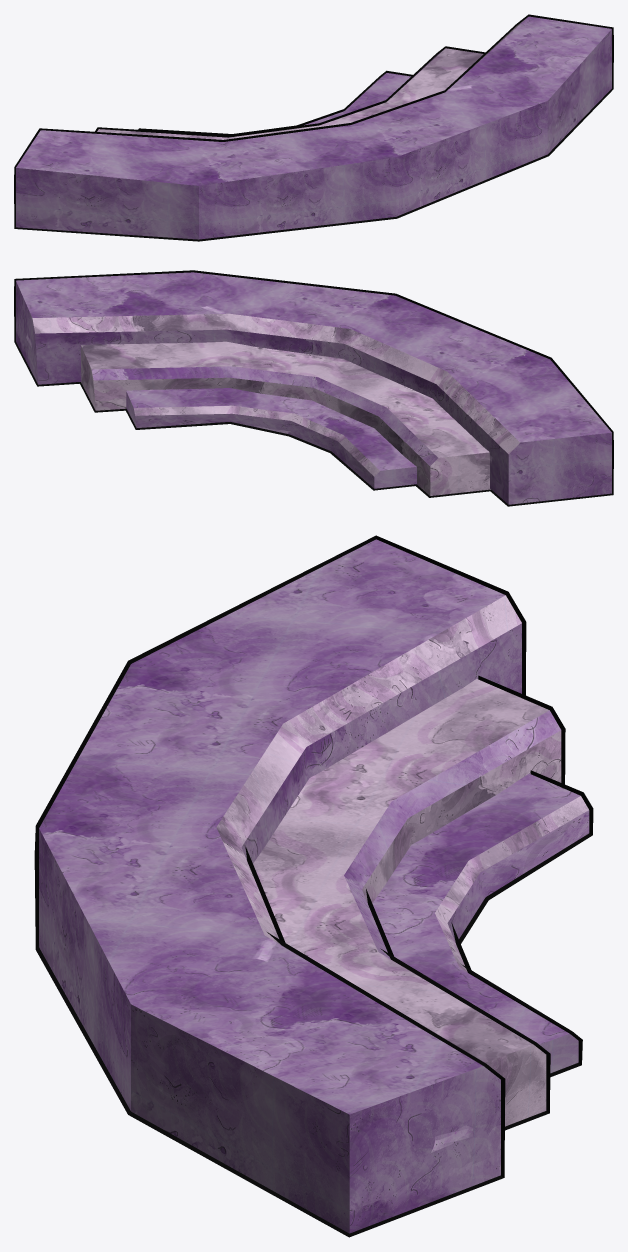
File: s0_Str_Amphitheater_01__1__01.glb
The picture shows the model from 3 angles, top to bottom: view 1: azimuth 30°, elevation 25°; view 2: azimuth 150°, elevation 25°; view 3: azimuth 270°, elevation 25°; orthographic projection. The views are drawn at different scales.
Parts seen in each view (by area): view 1: node_Str_Amphitheater_01 (1); view 2: node_Str_Amphitheater_01 (1); view 3: node_Str_Amphitheater_01 (1).
Boxes of the visible parts, <box> form: node_Str_Amphitheater_01 (1): <box>14,14,613,241</box>; node_Str_Amphitheater_01 (1): <box>14,270,613,506</box>; node_Str_Amphitheater_01 (1): <box>34,535,593,1237</box>.
Bounding box in the file's own units: 21.56 × 2.21 × 8.79.
Materials: 3 (2 with a texture image).
